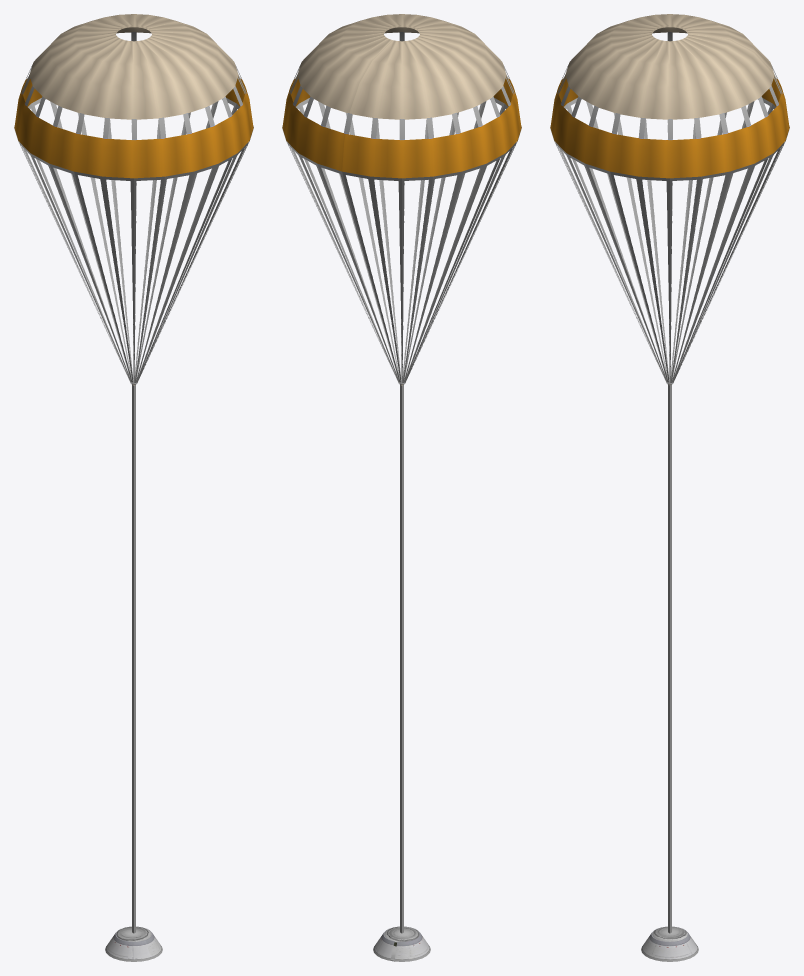
Rendered from chute.DAE.
3 views of the same model, side by side, from view 1: azimuth 30°, elevation 25°; view 2: azimuth 150°, elevation 25°; view 3: azimuth 270°, elevation 25° (orthographic).
Parts seen in each view (by area): view 1: canopy-Pivot, base; view 2: canopy-Pivot, base; view 3: canopy-Pivot, base.
Part boxes in pixels (x1,y1,x2,y2): canopy-Pivot: [14, 14, 253, 933]; base: [105, 926, 162, 961]; canopy-Pivot: [282, 14, 521, 933]; base: [373, 926, 430, 961]; canopy-Pivot: [550, 14, 789, 933]; base: [641, 926, 698, 961].
Size of what is drawn, in the model's own units: 1.82 by 7.66 by 1.82.
